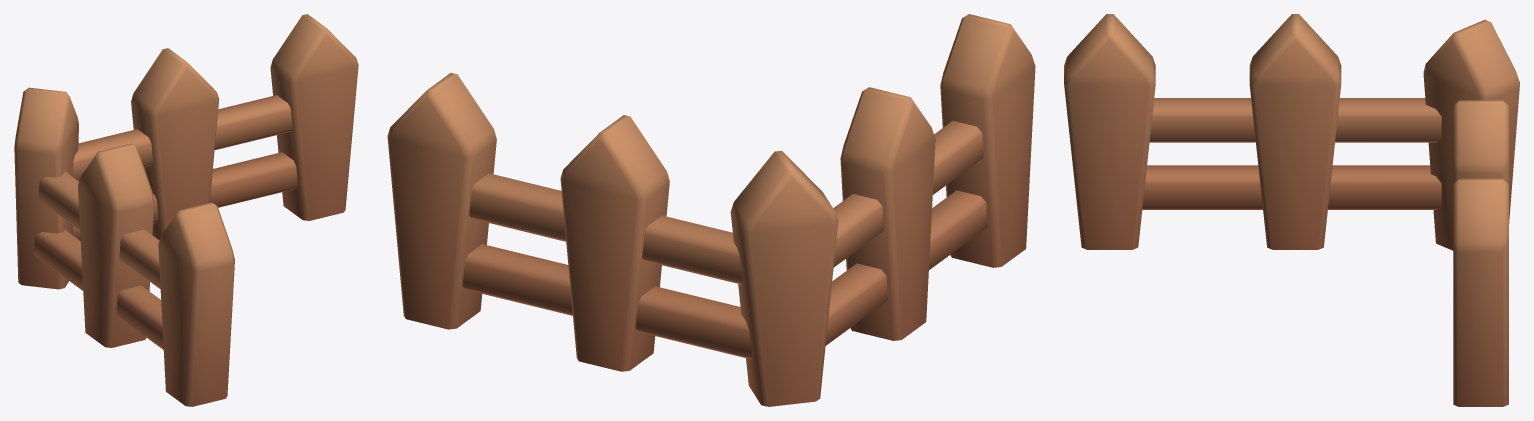
Rendered from fence_corner.fbx.
3 renders of one model, left to right at view 1: azimuth 30°, elevation 25°; view 2: azimuth 150°, elevation 25°; view 3: azimuth 270°, elevation 25°, orthographic. The views are drawn at different scales.
Visible parts, largest first — view 1: fence_corner; view 2: fence_corner; view 3: fence_corner.
Part boxes in pixels (x1,y1,x2,y2): fence_corner: [14, 14, 358, 406]; fence_corner: [387, 14, 1035, 406]; fence_corner: [1064, 14, 1519, 406].
Bounding box in the file's own units: 246 × 128 × 246.
